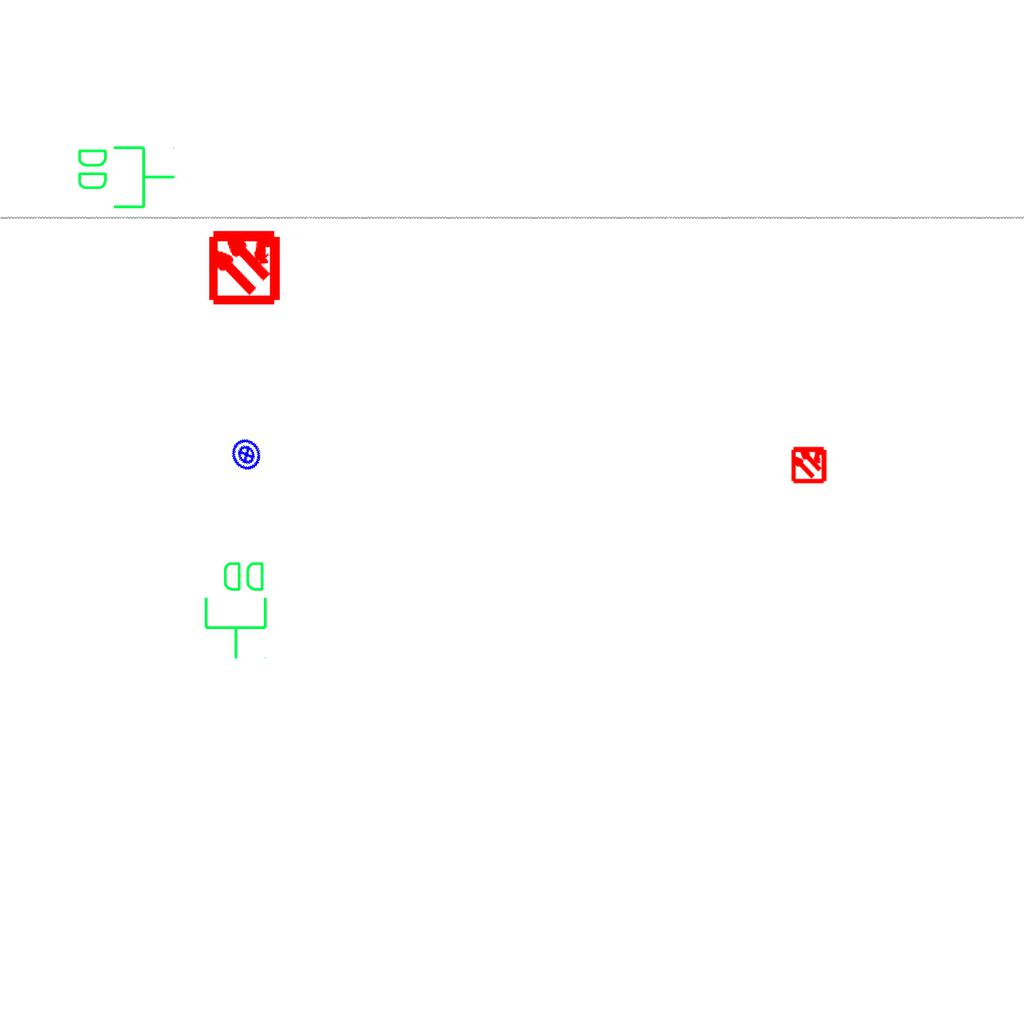Datenanschluss_zweifach: (74, 142, 177, 211), (202, 558, 271, 661)
OT_Multisensormelder_(Kombination_RMO_WMD): (188, 209, 301, 322), (781, 436, 837, 492)
Taster_beleuchtet: (224, 432, 269, 477)
